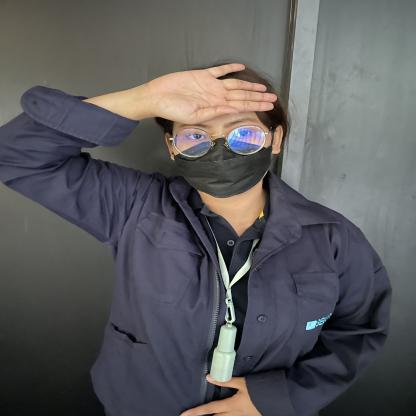Sick: (102, 54, 297, 125)
